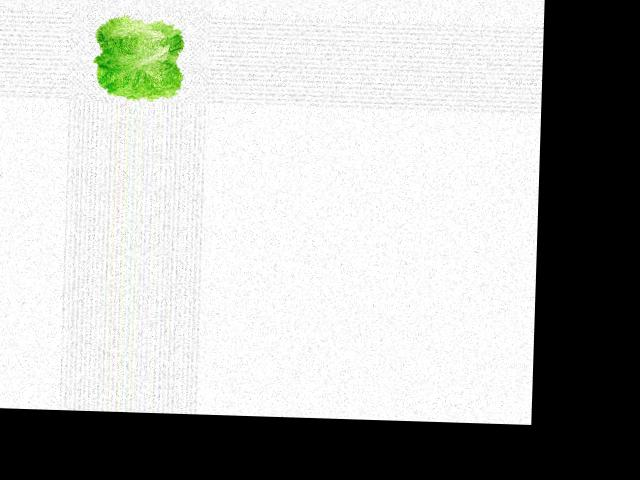lettuce: (86, 12, 191, 104)
